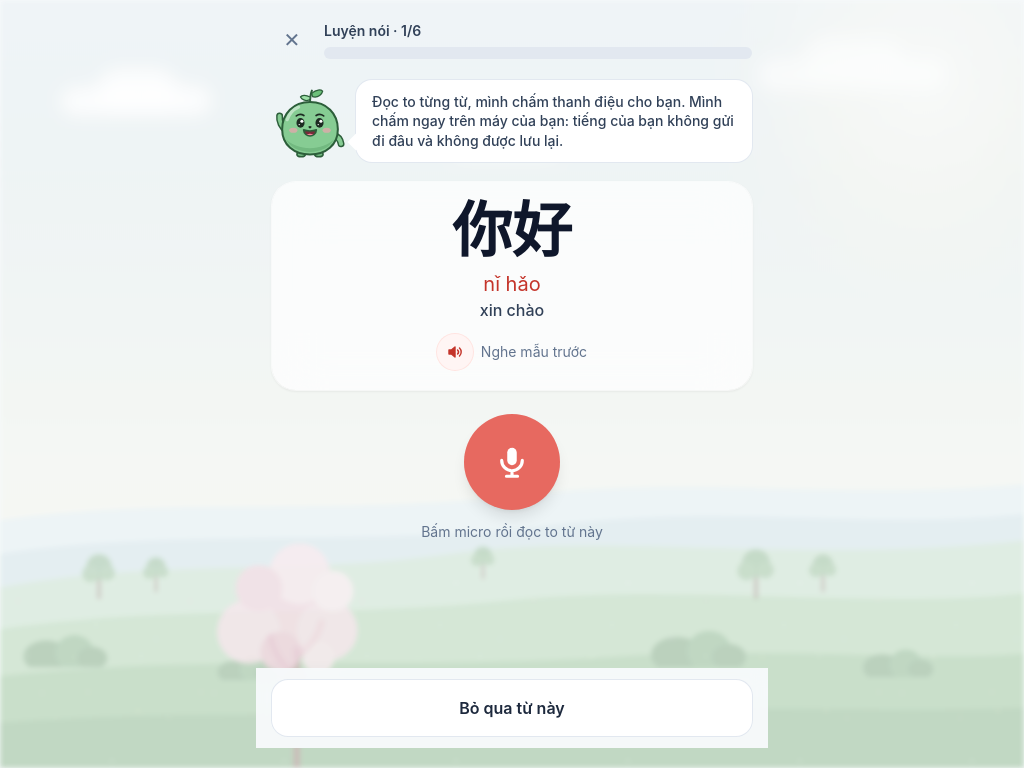
Test: Màn luyện nói › không nghe rõ thì Zibi mời đọc lại, không chấm và không cộng XP
The image size is (1024, 768).
Click the button named "Bấm để đọc": click(512, 462) [464, 414, 560, 510]
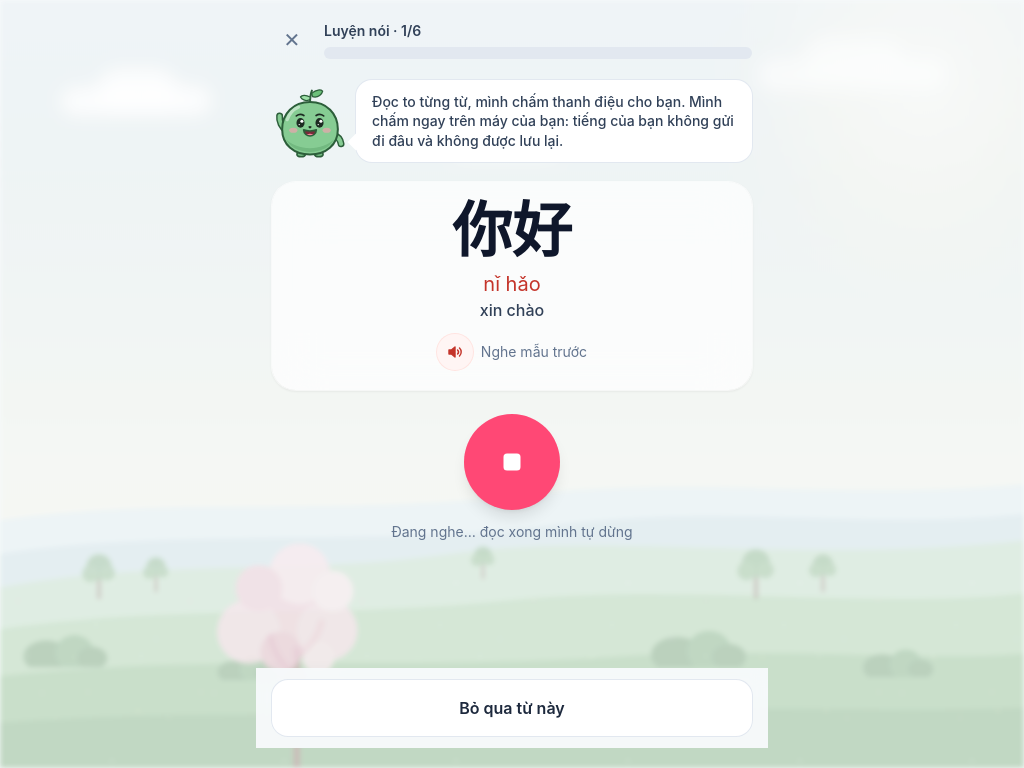
Click the button named "Dừng ghi âm": click(512, 462) [464, 414, 560, 510]
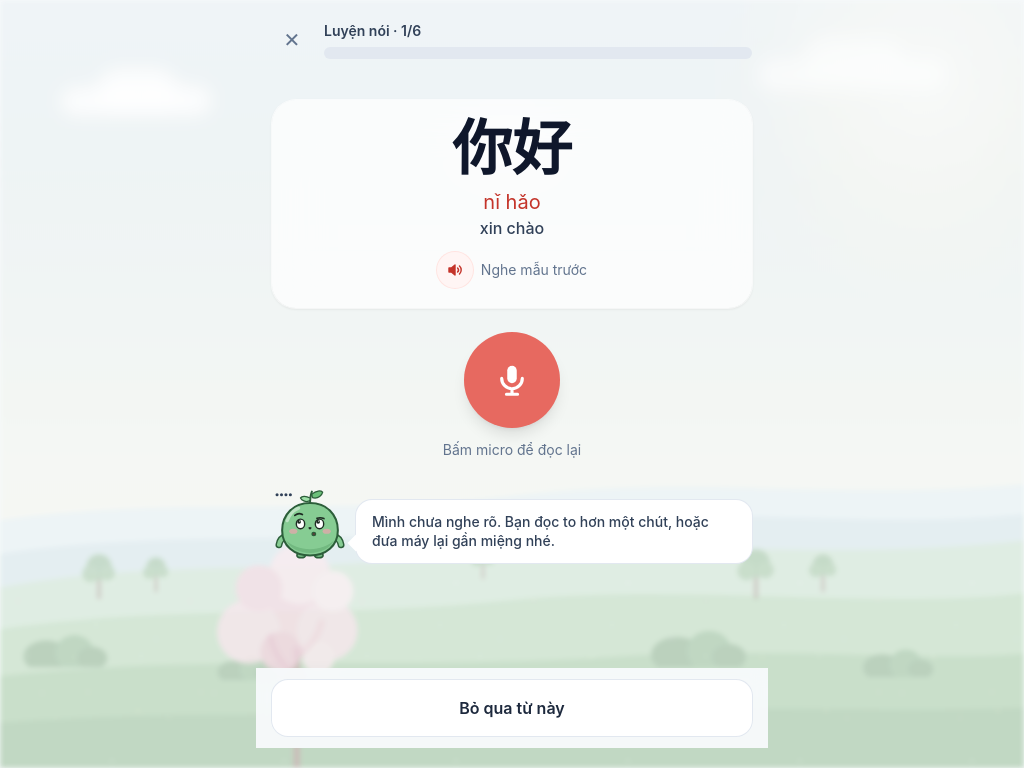
Check: the button named "Bấm để đọc" is shown, box [464, 332, 560, 428]
Check: the message reads "Mình chưa nghe rõ. Bạn đọc to hơn một chút, hoặc đưa máy lại gần miệng nhé.", box [372, 513, 709, 549]
